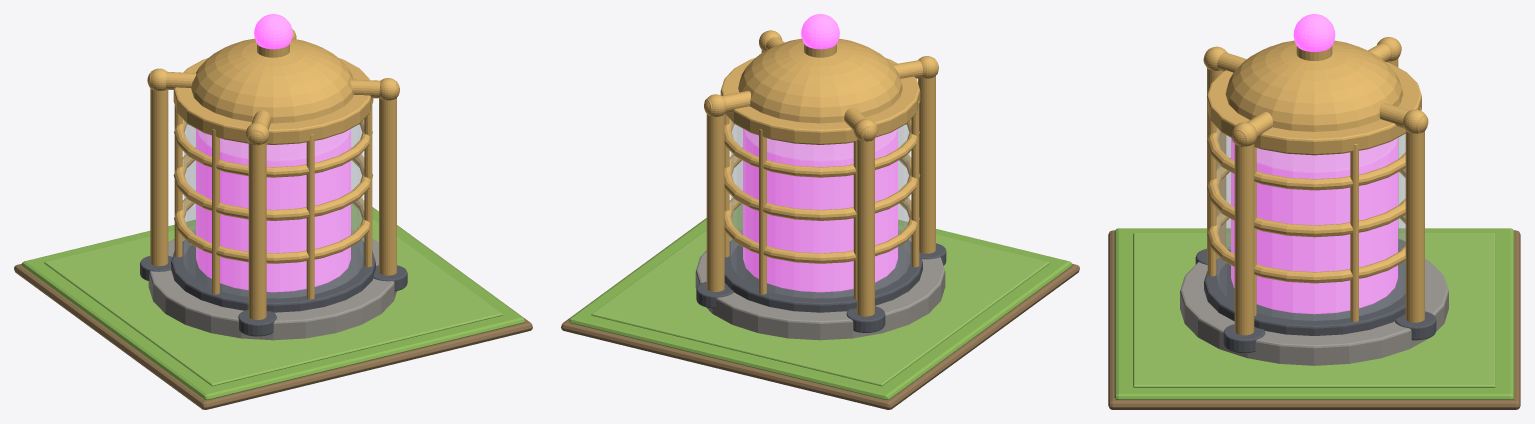
File: elixir_collector_lv3.glb
3 renders of one model, left to right at view 1: azimuth 30°, elevation 25°; view 2: azimuth 150°, elevation 25°; view 3: azimuth 270°, elevation 25°, orthographic. The views are drawn at different scales.
Parts seen in each view (by area): view 1: Base_Inner, GlassCylinder, ElixirLiquid, BrassDome, Base_Grass, WellBase, Base_Dirt, WellIronRing, TopRim, PipeDown_2, PipeDown_3, PipeDown_0 (+11 smaller); view 2: Base_Inner, GlassCylinder, ElixirLiquid, BrassDome, Base_Grass, WellBase, Base_Dirt, WellIronRing, TopRim, PipeDown_1, PipeDown_2, PipeDown_3 (+10 smaller); view 3: Base_Inner, GlassCylinder, ElixirLiquid, Base_Grass, BrassDome, WellBase, Base_Dirt, TopRim, WellIronRing, PipeDown_0, PipeDown_1, MidVatBand (+14 smaller).
Part boxes in pixels (<box>): Base_Inner: <box>44,204,502,386</box>; GlassCylinder: <box>183,121,363,298</box>; ElixirLiquid: <box>196,129,350,292</box>; BrassDome: <box>191,38,353,144</box>; Base_Grass: <box>21,207,524,399</box>; WellBase: <box>148,229,396,340</box>; Base_Dirt: <box>14,207,532,409</box>; WellIronRing: <box>171,234,375,312</box>; TopRim: <box>173,58,373,144</box>; PipeDown_2: <box>150,88,168,266</box>; PipeDown_3: <box>248,142,266,319</box>; PipeDown_0: <box>379,98,396,275</box>; Base_Inner: <box>591,204,1049,386</box>; GlassCylinder: <box>730,121,910,298</box>; ElixirLiquid: <box>743,129,897,292</box>; BrassDome: <box>738,38,902,144</box>; Base_Grass: <box>569,218,1072,399</box>; WellBase: <box>695,229,945,340</box>; Base_Dirt: <box>561,218,1079,409</box>; WellIronRing: <box>724,234,922,312</box>; TopRim: <box>720,58,920,144</box>; PipeDown_1: <box>706,114,724,291</box>; PipeDown_2: <box>857,139,874,316</box>; PipeDown_3: <box>918,76,935,253</box>; Base_Inner: <box>1133,233,1495,387</box>; GlassCylinder: <box>1217,128,1405,320</box>; ElixirLiquid: <box>1231,138,1397,314</box>; Base_Grass: <box>1114,228,1514,399</box>; BrassDome: <box>1225,40,1403,155</box>; WellBase: <box>1180,246,1448,365</box>; Base_Dirt: <box>1108,230,1520,409</box>; TopRim: <box>1207,61,1421,155</box>; WellIronRing: <box>1204,251,1405,335</box>; PipeDown_0: <box>1234,143,1254,335</box>; PipeDown_1: <box>1405,131,1424,322</box>; MidVatBand: <box>1207,158,1405,237</box>.
Size of the model in its own units: 2.76 by 2.28 by 2.76.
